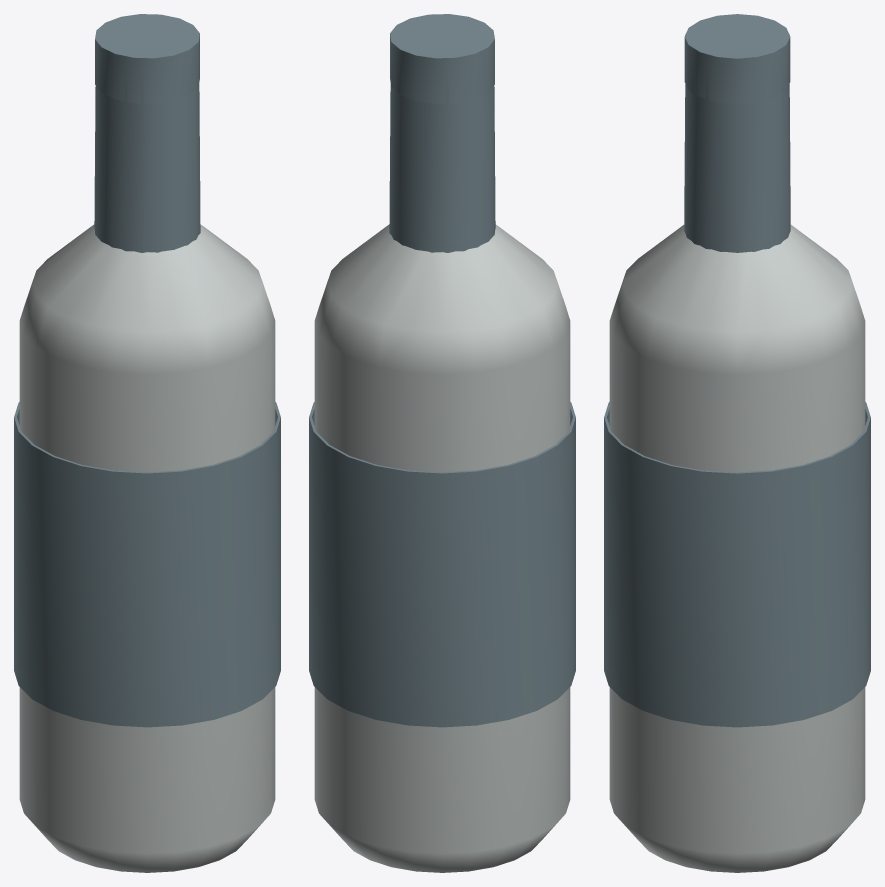
File: champagne-bottle.glb
3 views of the same model, side by side, from view 1: azimuth 30°, elevation 25°; view 2: azimuth 150°, elevation 25°; view 3: azimuth 270°, elevation 25° (orthographic).
Visible parts, largest first — view 1: bottle_body, raised_label, foil_neck, closure; view 2: bottle_body, raised_label, foil_neck, closure; view 3: bottle_body, raised_label, foil_neck, closure.
Boxes of the visible parts, left/top/right/bottom form: bottle_body: left=19, top=224, right=275, bottom=872; raised_label: left=14, top=402, right=280, bottom=727; foil_neck: left=94, top=51, right=200, bottom=252; closure: left=95, top=14, right=199, bottom=103; bottle_body: left=314, top=224, right=570, bottom=872; raised_label: left=309, top=402, right=575, bottom=727; foil_neck: left=389, top=51, right=495, bottom=252; closure: left=390, top=14, right=494, bottom=103; bottle_body: left=609, top=225, right=865, bottom=872; raised_label: left=604, top=402, right=870, bottom=727; foil_neck: left=684, top=62, right=790, bottom=252; closure: left=684, top=14, right=790, bottom=103.
Size of the model in its own units: 0.096 by 0.315 by 0.096.
